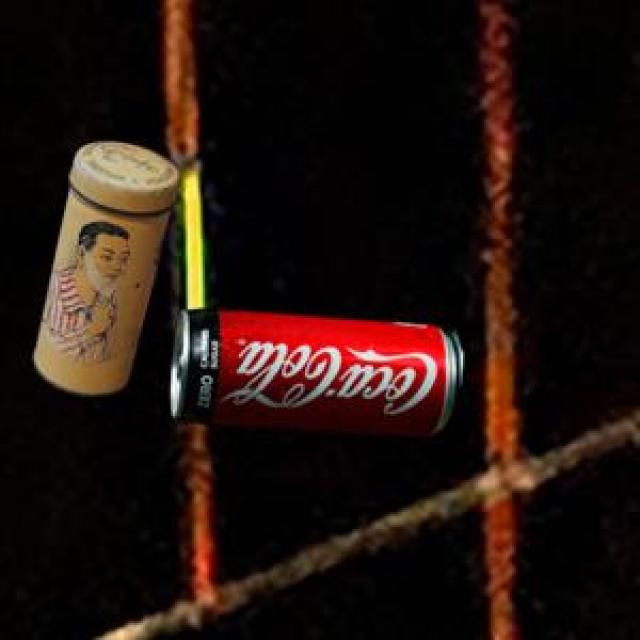logam: (167, 306, 460, 434), (31, 140, 176, 394)
